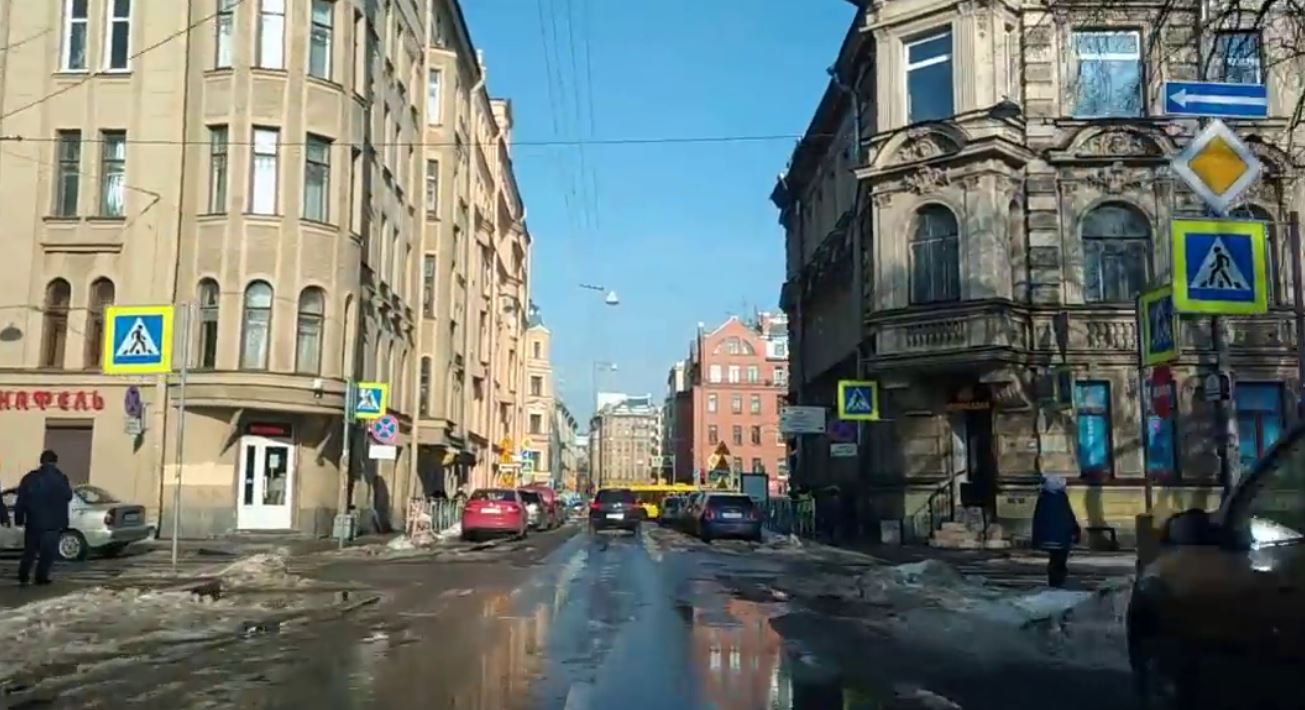Yaya Gecidi: (1190, 236, 1258, 302), (115, 314, 164, 361), (844, 387, 874, 415), (358, 389, 384, 410)
